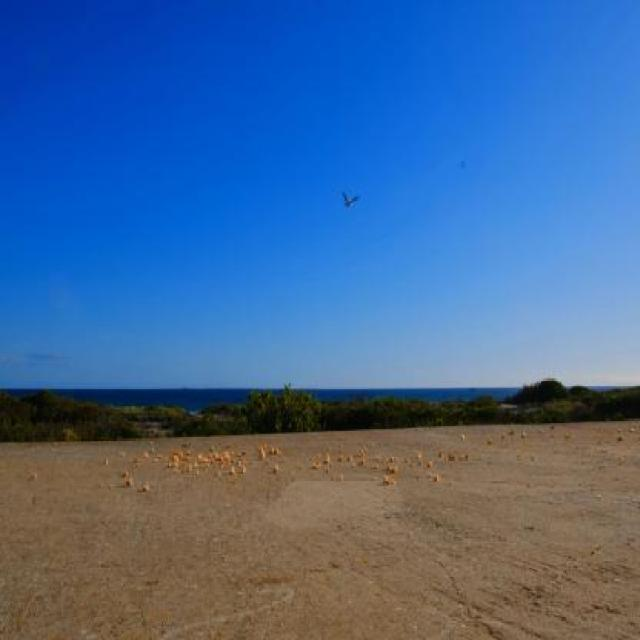bird: (340, 185, 366, 221)
